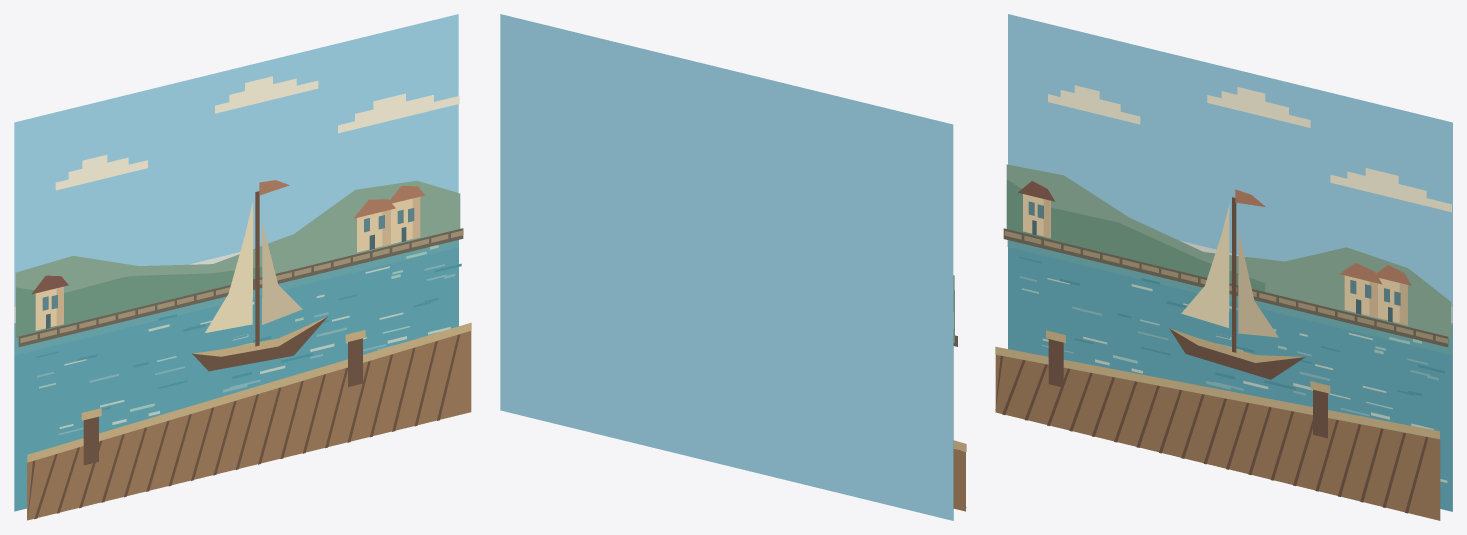
File: window-harbor.glb
3 renders of one model, left to right at view 1: azimuth 30°, elevation 25°; view 2: azimuth 150°, elevation 25°; view 3: azimuth 330°, elevation 25°, orthographic.
Parts seen in each view (by area): view 1: Sky and water, Near oak boardwalk, Distant coast, Stepped seaside clouds, Quay stones, Linen sails, Short sunlit ripples, Sailboat hull and mast, Small limestone harbor houses, Mooring posts, Low terracotta rooftops, Painted shutters; view 2: Sky and water, Near oak boardwalk; view 3: Sky and water, Near oak boardwalk, Distant coast, Stepped seaside clouds, Quay stones, Linen sails, Short sunlit ripples, Sailboat hull and mast, Small limestone harbor houses, Mooring posts, Low terracotta rooftops, Painted shutters.
Boxes of the visible parts, x1,y1,x2,y2 form: Sky and water: (14,14,458,511); Near oak boardwalk: (27,322,471,520); Distant coast: (15,180,460,338); Stepped seaside clouds: (55,76,459,190); Quay stones: (18,228,463,346); Linen sails: (205,201,302,332); Short sunlit ripples: (36,245,461,445); Sailboat hull and mast: (192,191,328,371); Small limestone harbor houses: (35,197,420,330); Mooring posts: (81,330,365,465); Low terracotta rooftops: (32,186,424,294); Painted shutters: (42,208,414,328); Sky and water: (500,14,953,520); Near oak boardwalk: (953,440,966,511); Sky and water: (1007,14,1452,511); Near oak boardwalk: (995,346,1440,520); Distant coast: (1006,164,1451,339); Stepped seaside clouds: (1048,85,1451,212); Quay stones: (1003,228,1448,347); Linen sails: (1181,204,1278,337); Short sunlit ripples: (1019,256,1447,482); Sailboat hull and mast: (1169,197,1305,379); Small limestone harbor houses: (1023,194,1407,325); Mooring posts: (1046,330,1330,438); Low terracotta rooftops: (1018,181,1411,285); Painted shutters: (1028,201,1400,322).
Bounding box in the file's own units: 3.18 × 2.66 × 0.182.
